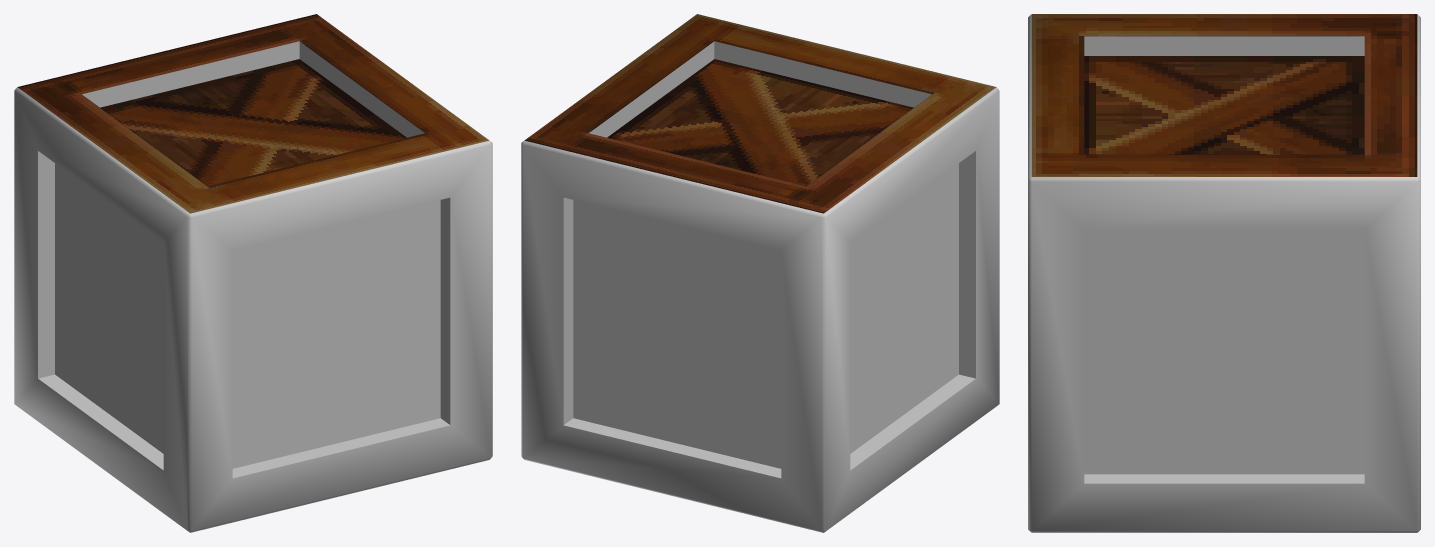
Rendered from NormalCrate.FBX.
3 views of the same model, side by side, from view 1: azimuth 30°, elevation 25°; view 2: azimuth 150°, elevation 25°; view 3: azimuth 270°, elevation 25° (orthographic). The views are drawn at different scales.
Visible parts, largest first — view 1: normal_box; view 2: normal_box; view 3: normal_box.
Boxes of the visible parts, left/top/right/bottom form: normal_box: left=14, top=14, right=492, bottom=532; normal_box: left=521, top=14, right=999, bottom=532; normal_box: left=1028, top=14, right=1420, bottom=532.
Size of the model in its own units: 50 by 50 by 50.
